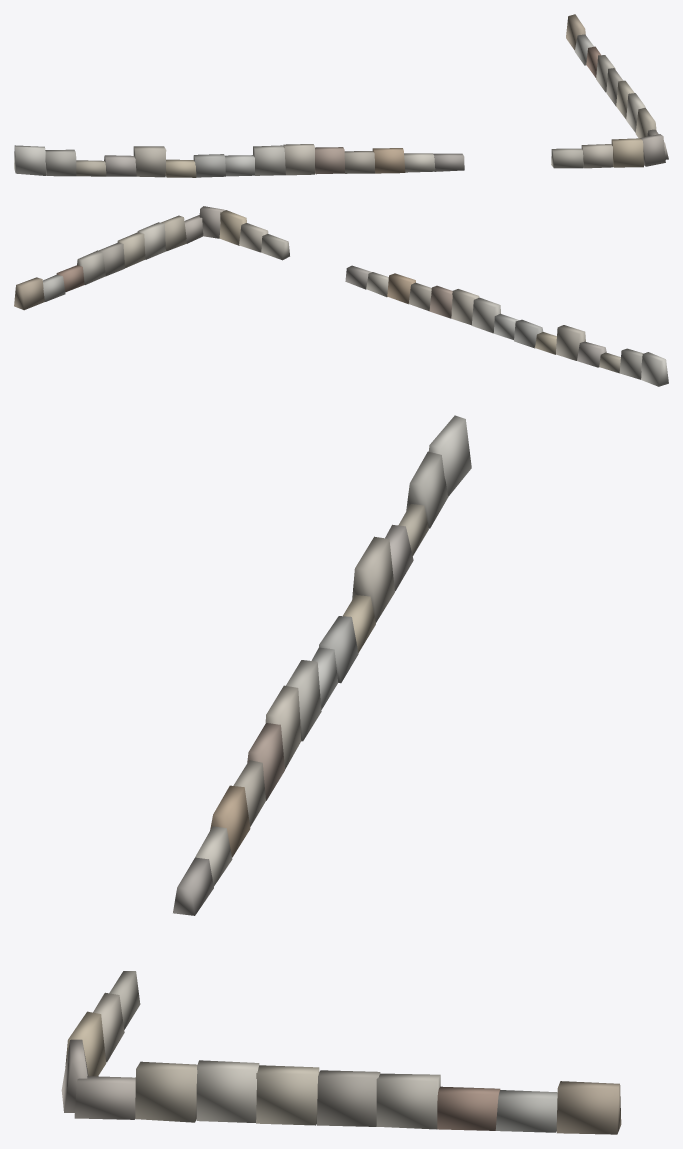
Rendered from farm_-11_3_far.glb.
The picture shows the model from 3 angles, top to bottom: view 1: azimuth 30°, elevation 25°; view 2: azimuth 150°, elevation 25°; view 3: azimuth 270°, elevation 25°; orthographic projection. The views are drawn at different scales.
Parts seen in each view (by area): view 1: geometry_0; view 2: geometry_0; view 3: geometry_0.
Boxes of the visible parts, box(x1,y1,x2,y2) form: geometry_0: box(14, 14, 668, 177); geometry_0: box(14, 206, 668, 386); geometry_0: box(61, 415, 621, 1134).
Size of the model in its own units: 36 by 4.5 by 14.44.
